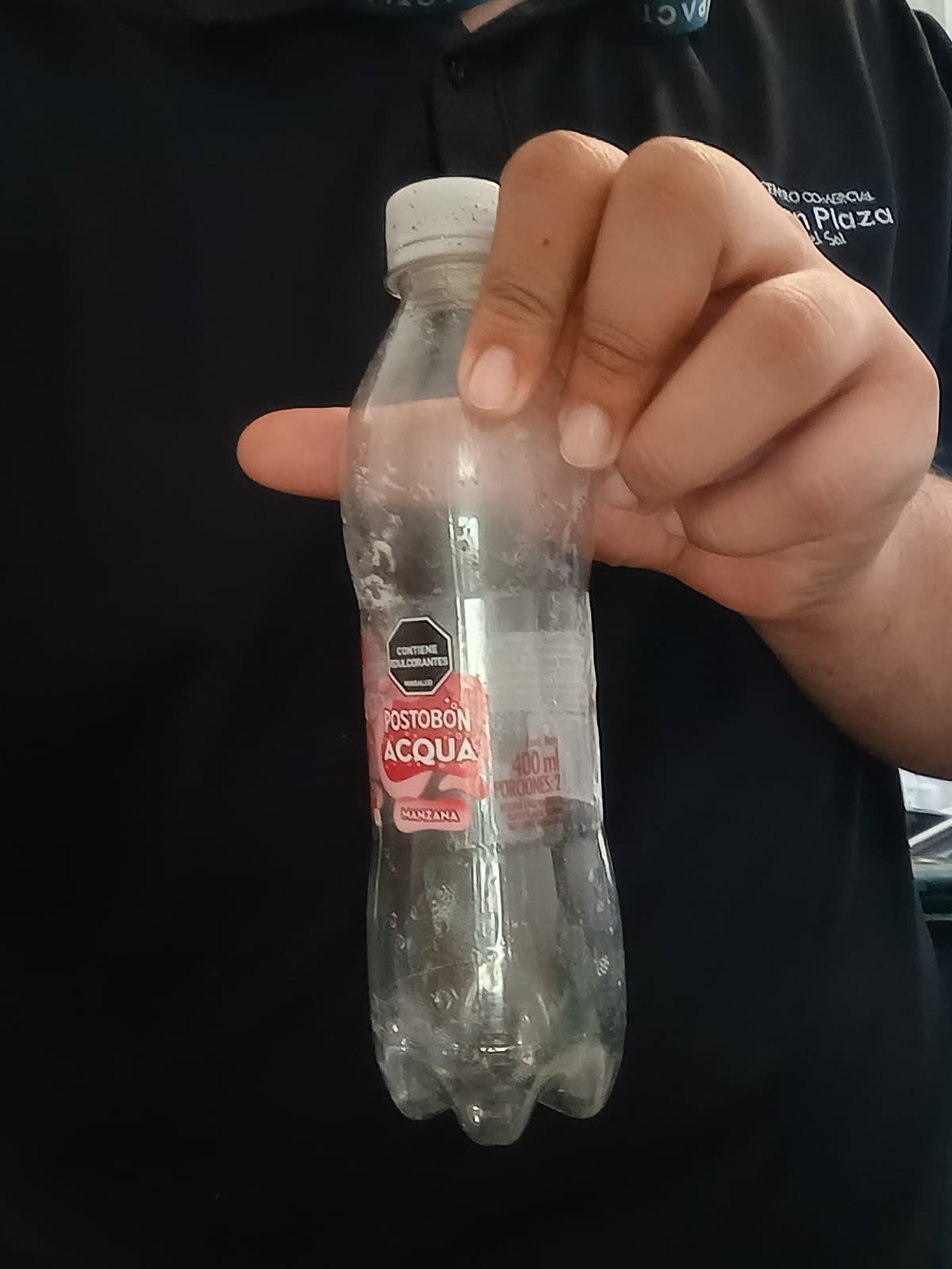Plastico: (340, 179, 628, 1142)
